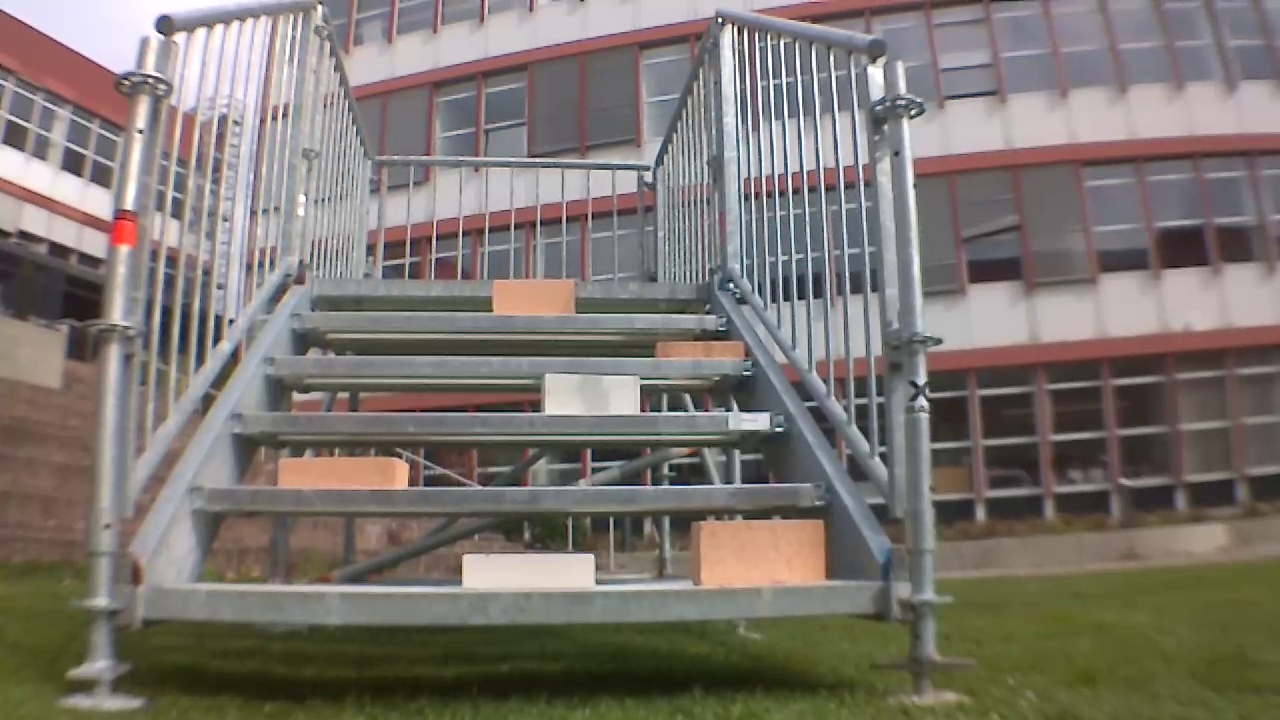brick: (693, 518, 828, 590), (459, 551, 597, 595), (268, 458, 415, 494), (539, 374, 642, 413), (495, 279, 577, 312), (654, 339, 748, 364)
edge: (142, 575, 887, 625), (185, 476, 831, 513), (230, 411, 790, 441), (262, 356, 752, 375), (291, 309, 727, 329), (314, 279, 711, 295)
stairs: (97, 0, 922, 656)
steps: (130, 273, 900, 631)
